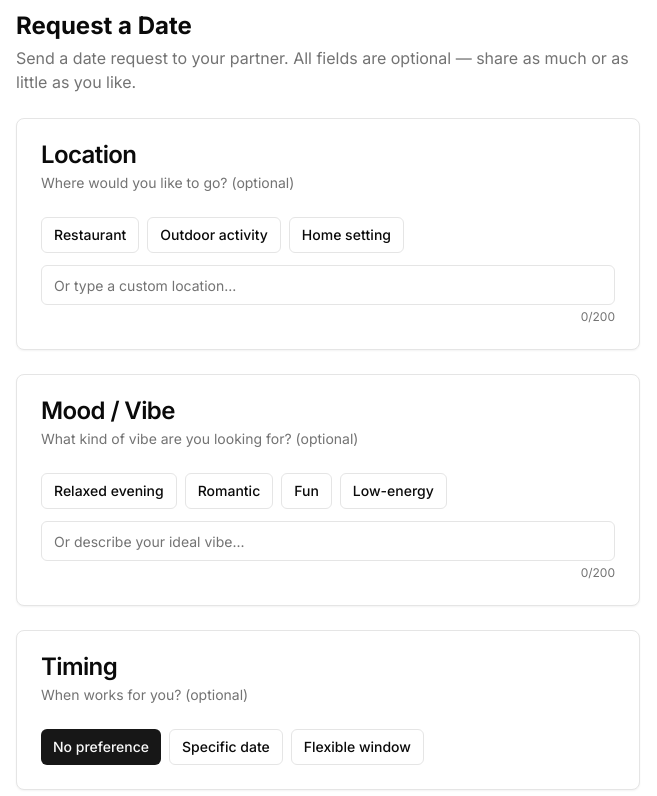
Test case: DateRequestPage › allows selecting a mood preset
Click the button with test id "mood-preset-romantic": (229, 491) [185,473,273,509]
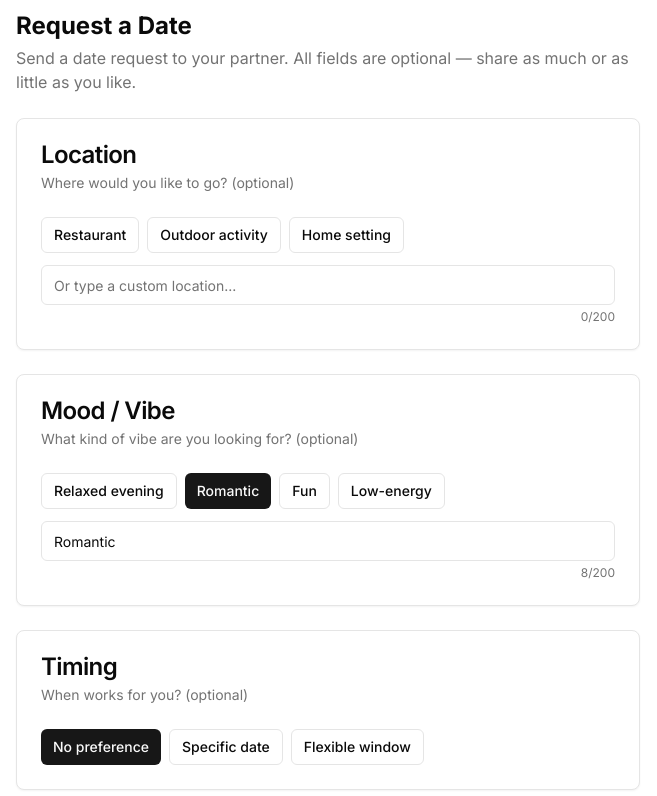
Check: the field with placeholder "Or describe your ideal vibe..." holds "Romantic", box [41,521,615,561]
